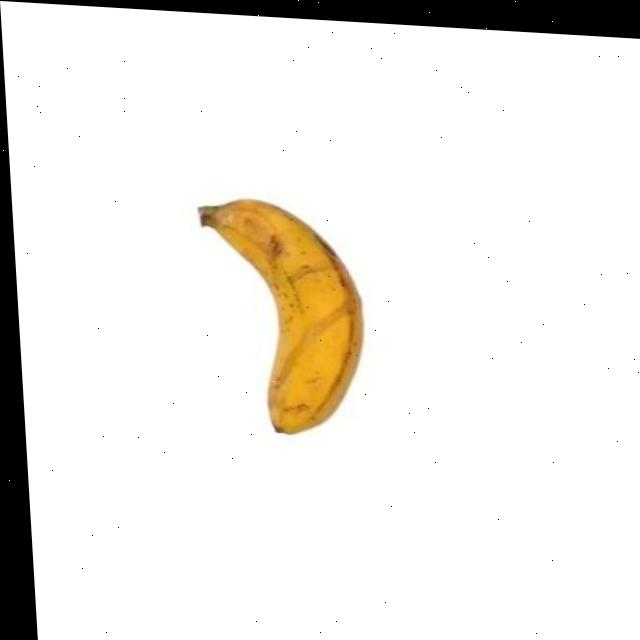banana: (188, 184, 382, 444)
